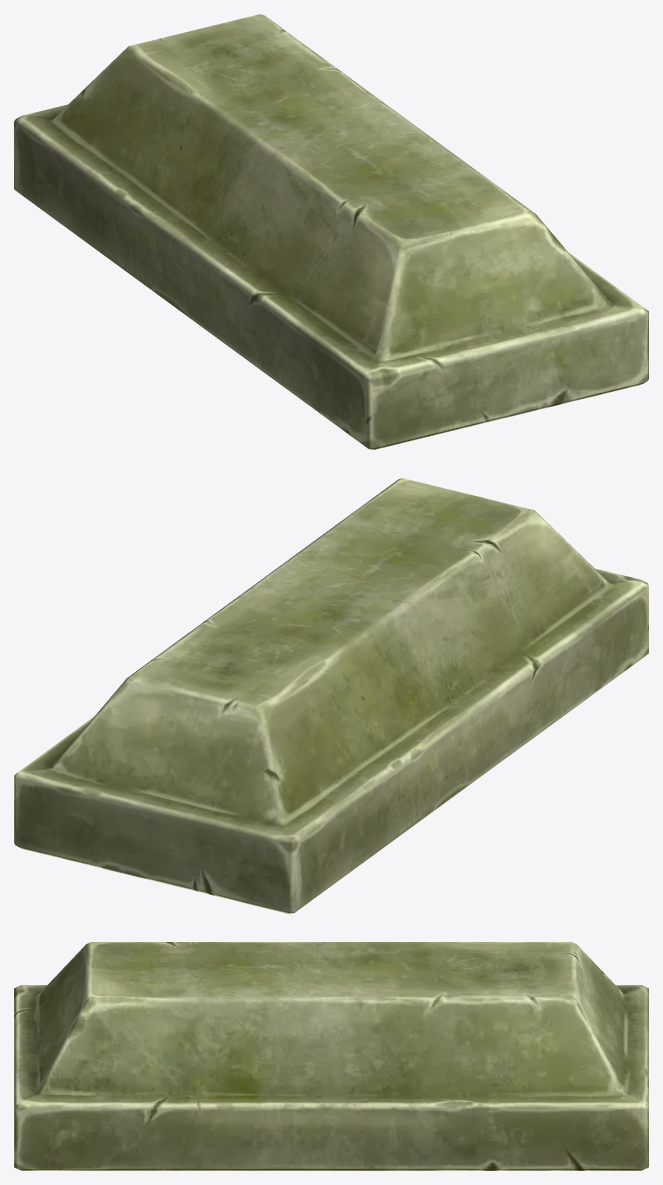
3 views of the same model, one above another, from view 1: azimuth 30°, elevation 25°; view 2: azimuth 150°, elevation 25°; view 3: azimuth 270°, elevation 25° (orthographic). The views are drawn at different scales.
Parts seen in each view (by area): view 1: SM_Ingot_Tin_01_LOD0; view 2: SM_Ingot_Tin_01_LOD0; view 3: SM_Ingot_Tin_01_LOD0.
Part boxes in pixels (bbox=[...]): SM_Ingot_Tin_01_LOD0: bbox=[14, 14, 648, 449]; SM_Ingot_Tin_01_LOD0: bbox=[14, 478, 648, 913]; SM_Ingot_Tin_01_LOD0: bbox=[14, 942, 648, 1170].
Bounding box in the file's own units: 0.2445 × 0.1322 × 0.5369.
Materials: 1 (1 with a texture image).
